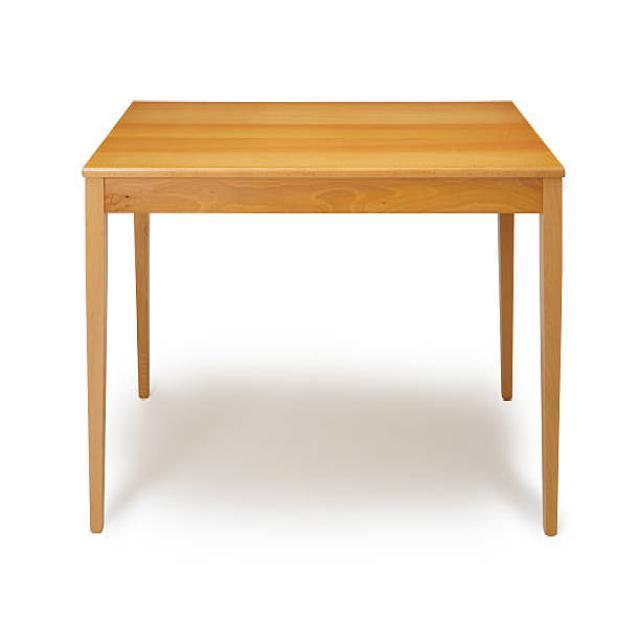table: (81, 97, 564, 538)
